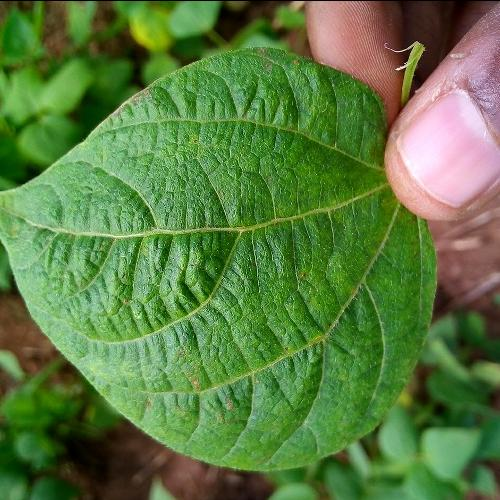hawar: (249, 50, 320, 95), (128, 87, 159, 112)
mozaik: (162, 336, 248, 424), (326, 359, 370, 441)
sehat: (107, 147, 351, 308)
